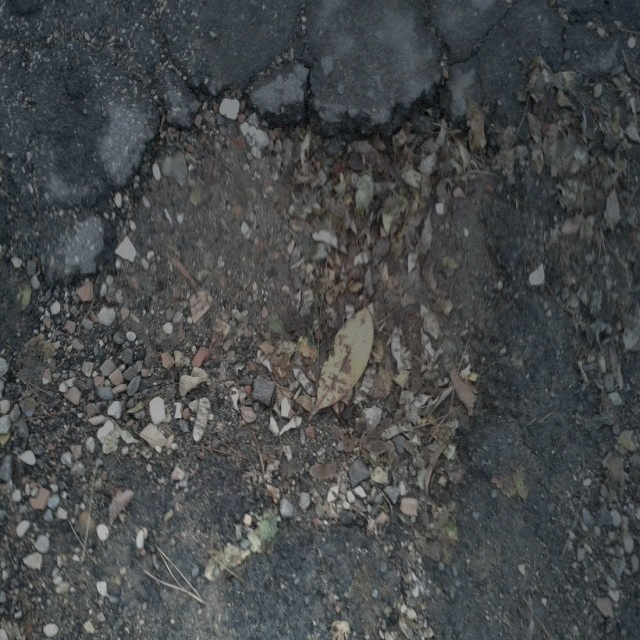pothole: (80, 46, 511, 516)
